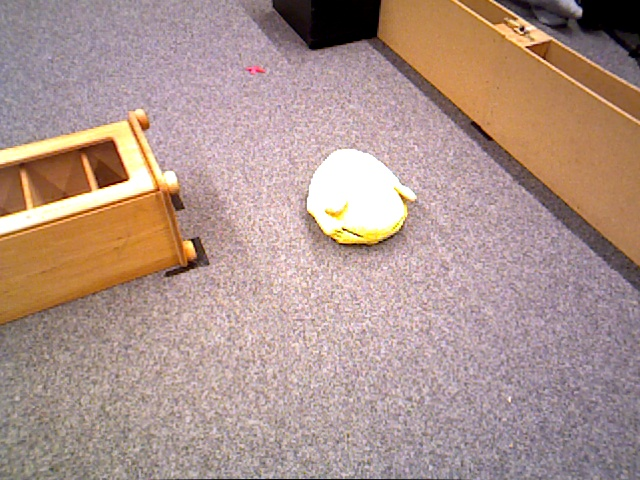grasp: (306, 148, 408, 246)
push: (274, 1, 381, 50)
